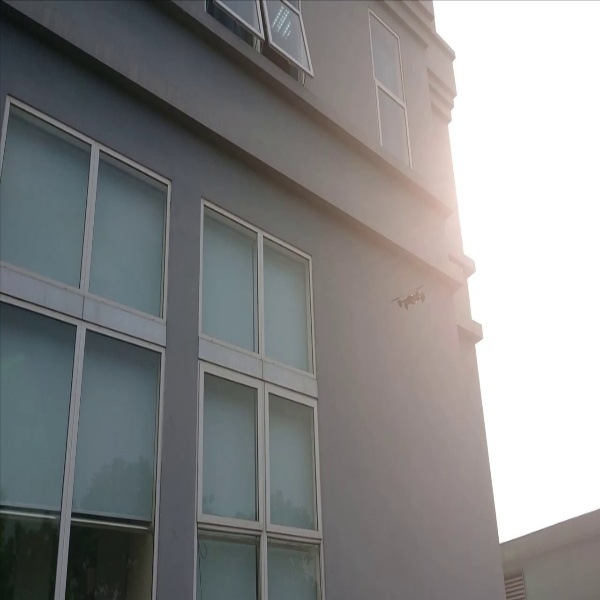drone: (386, 278, 432, 317)
